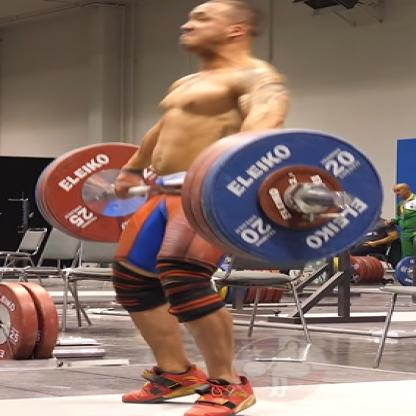Barbell: (178, 125, 397, 267)
